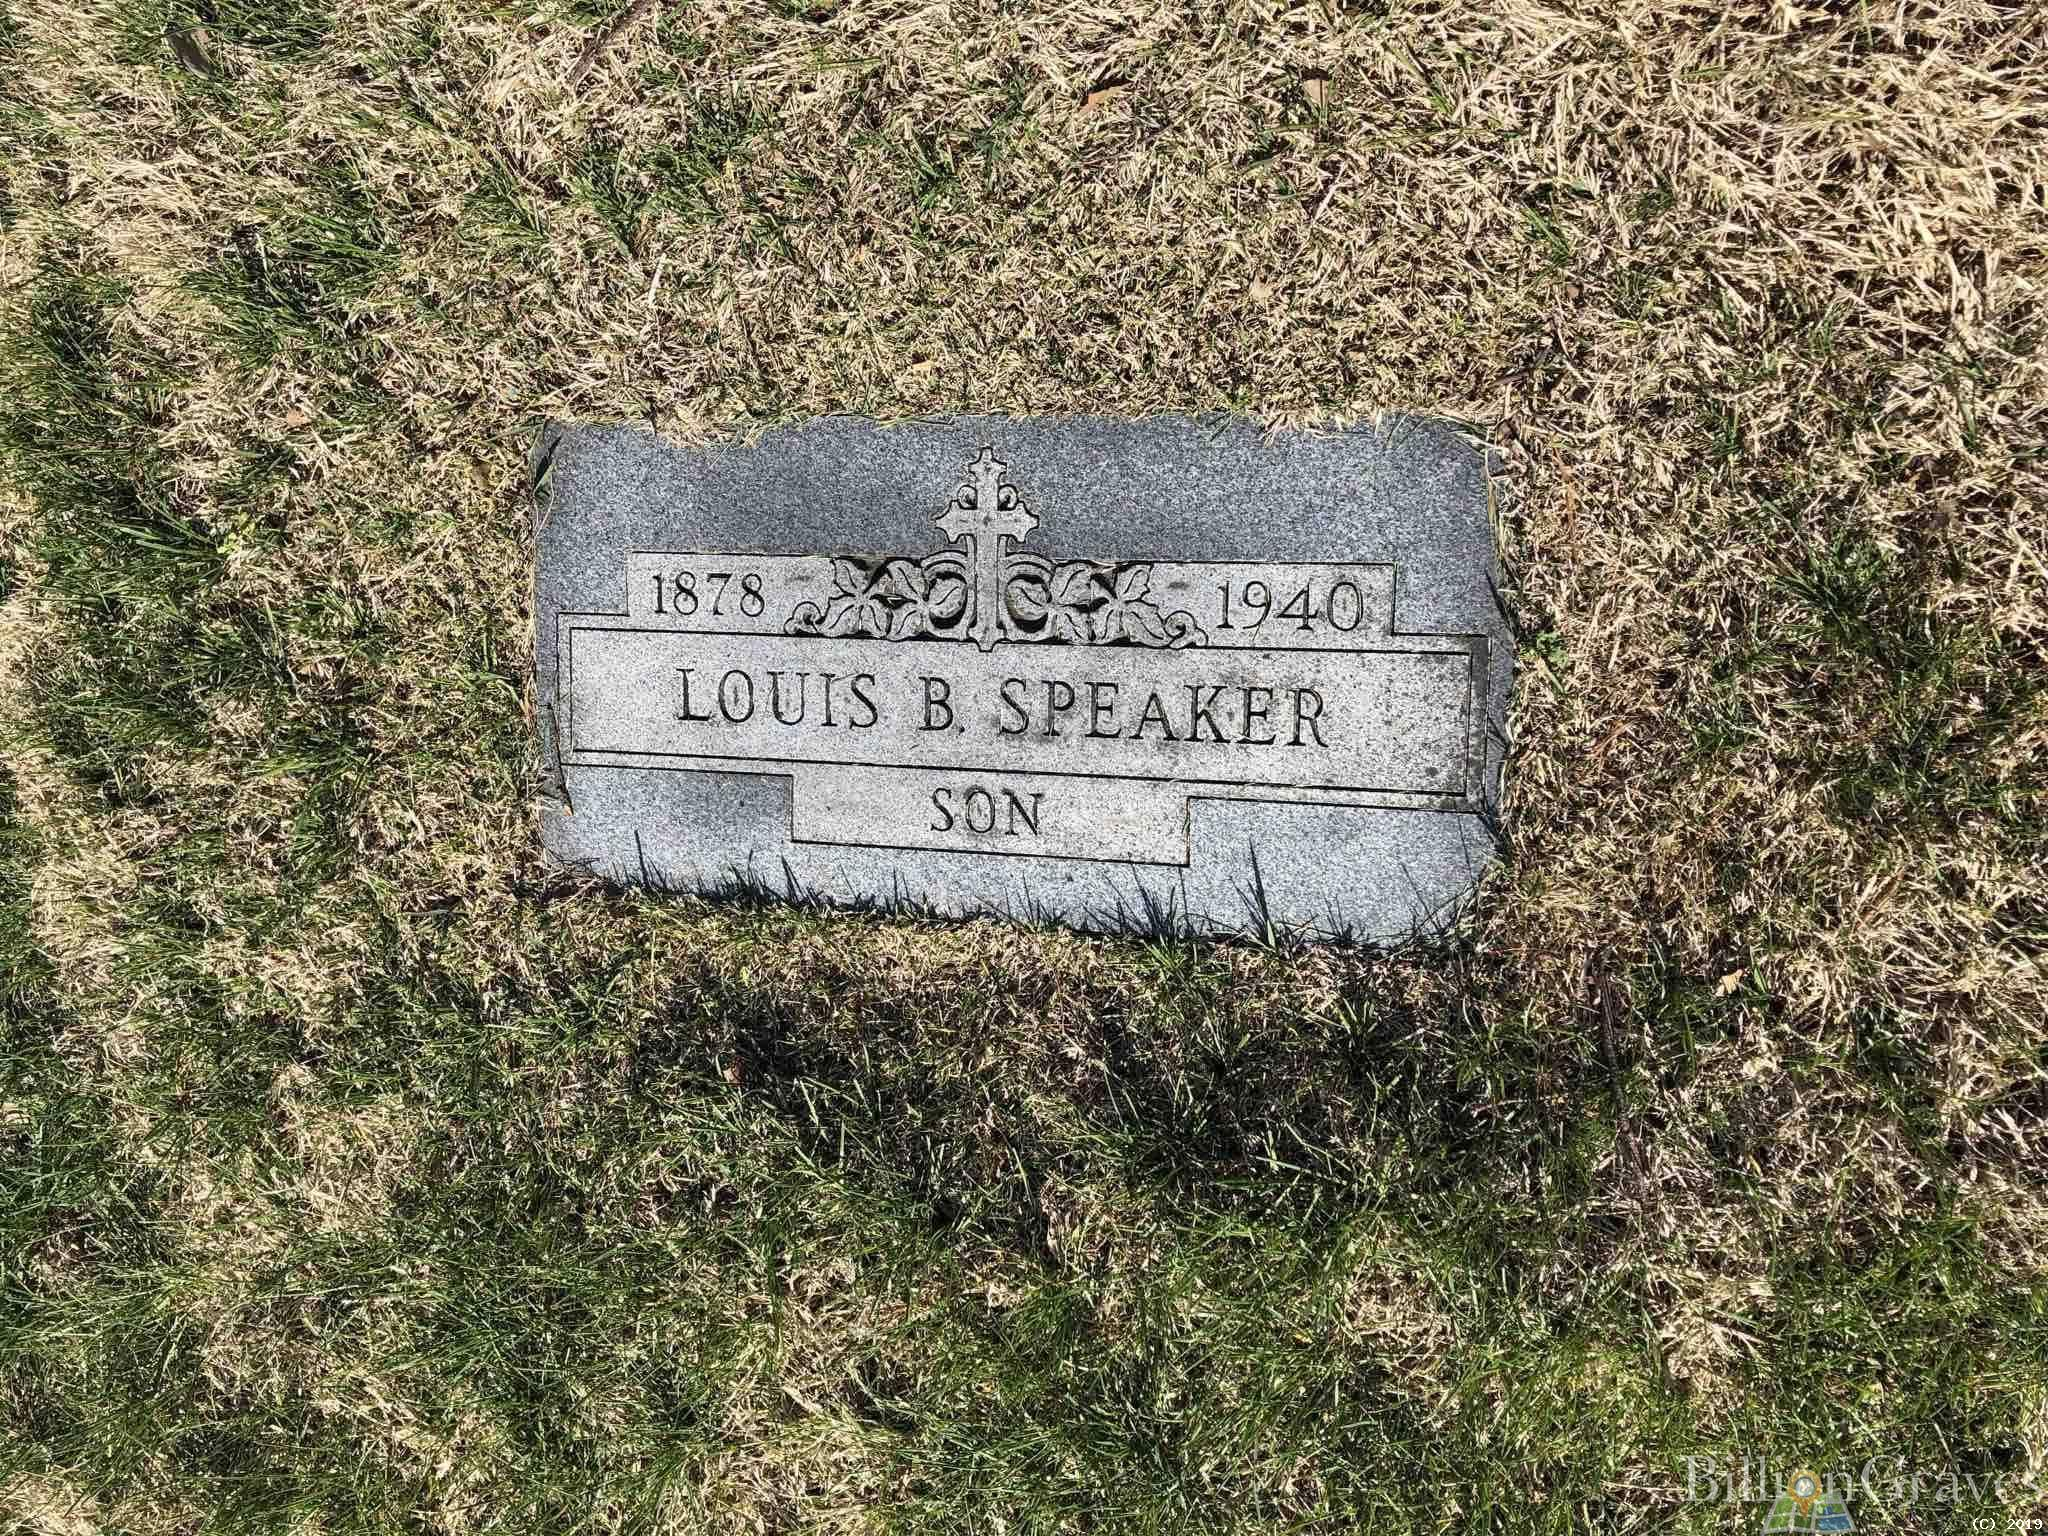flat: (500, 366, 1580, 975)
